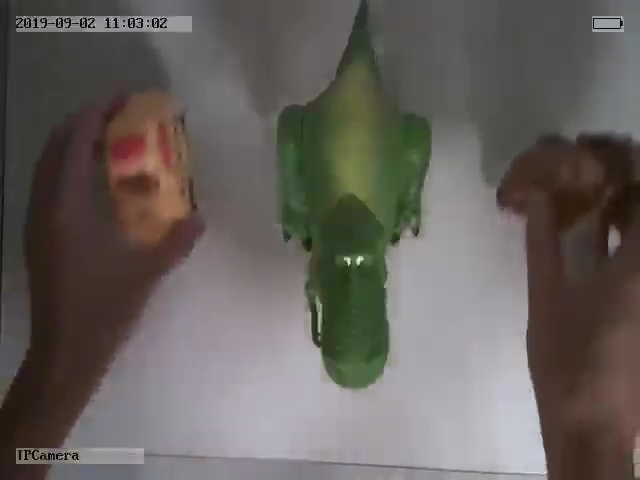rex: (274, 2, 436, 390)
